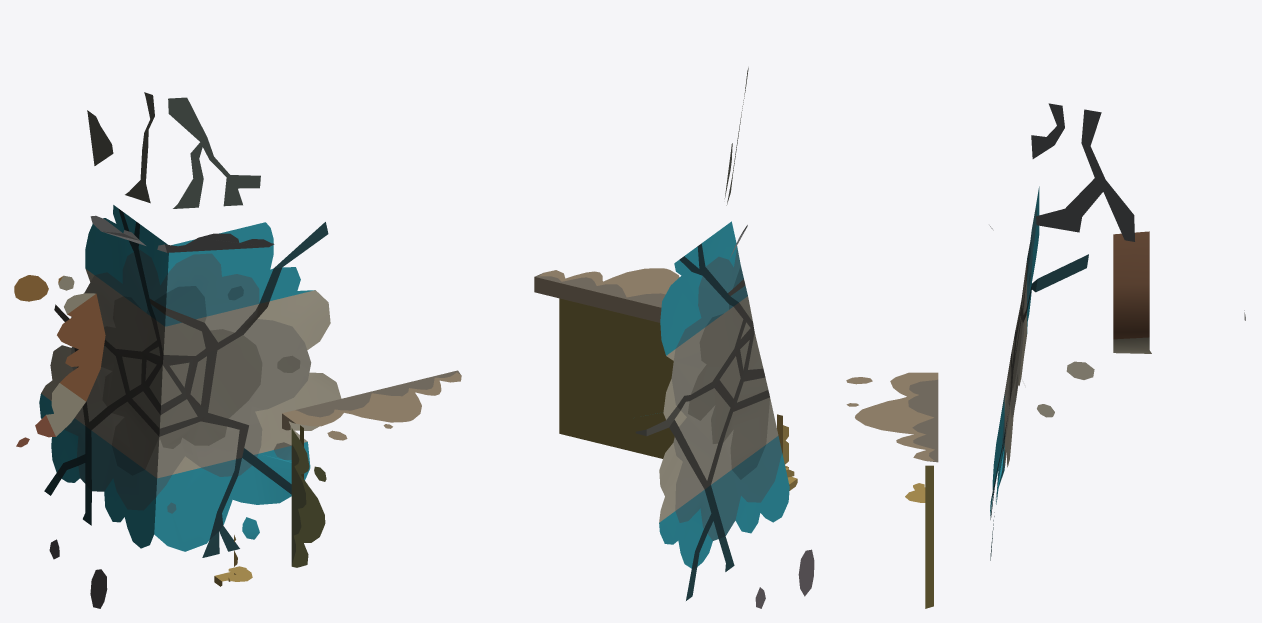
Rendered from lifeGuardMess.glb.
3 renders of one model, left to right at view 1: azimuth 30°, elevation 25°; view 2: azimuth 150°, elevation 25°; view 3: azimuth 270°, elevation 25°, orthographic. The views are drawn at different scales.
Parts seen in each view (by area): view 1: lifeGuardMess; view 2: lifeGuardMess; view 3: lifeGuardMess.
Boxes of the visible parts, bbox=[...] form: lifeGuardMess: bbox=[14, 92, 461, 608]; lifeGuardMess: bbox=[534, 67, 814, 608]; lifeGuardMess: bbox=[846, 103, 1245, 608].
Size of the model in its own units: 2.06 by 2.79 by 1.91.
